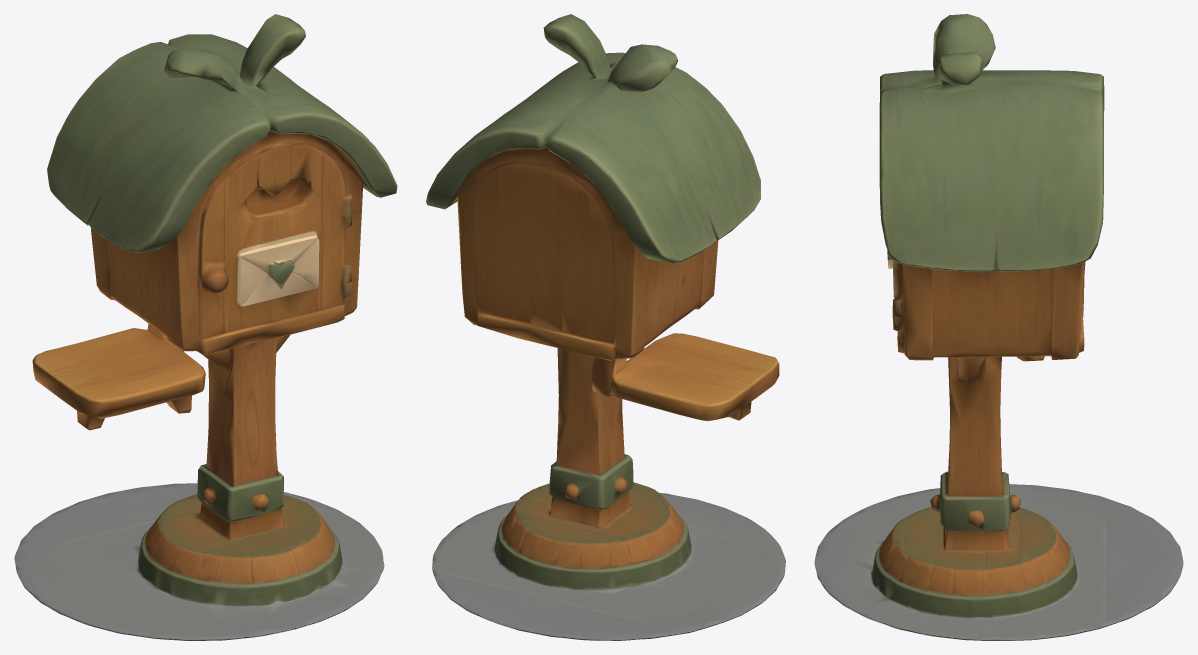
The model's file is talk-mailbox.glb.
3 renders of one model, left to right at view 1: azimuth 30°, elevation 25°; view 2: azimuth 150°, elevation 25°; view 3: azimuth 270°, elevation 25°, orthographic. The views are drawn at different scales.
Visible parts, largest first — view 1: tripo_node_edfed441-2916-40c0-8f6b-fb57f430a298; view 2: tripo_node_edfed441-2916-40c0-8f6b-fb57f430a298; view 3: tripo_node_edfed441-2916-40c0-8f6b-fb57f430a298.
Boxes of the visible parts, left/top/right/bottom form: tripo_node_edfed441-2916-40c0-8f6b-fb57f430a298: left=14, top=14, right=397, bottom=640; tripo_node_edfed441-2916-40c0-8f6b-fb57f430a298: left=426, top=14, right=785, bottom=640; tripo_node_edfed441-2916-40c0-8f6b-fb57f430a298: left=814, top=14, right=1183, bottom=640.
Size of the model in its own units: 0.6179 by 1 by 0.6186.
1 material, 1 textured.
